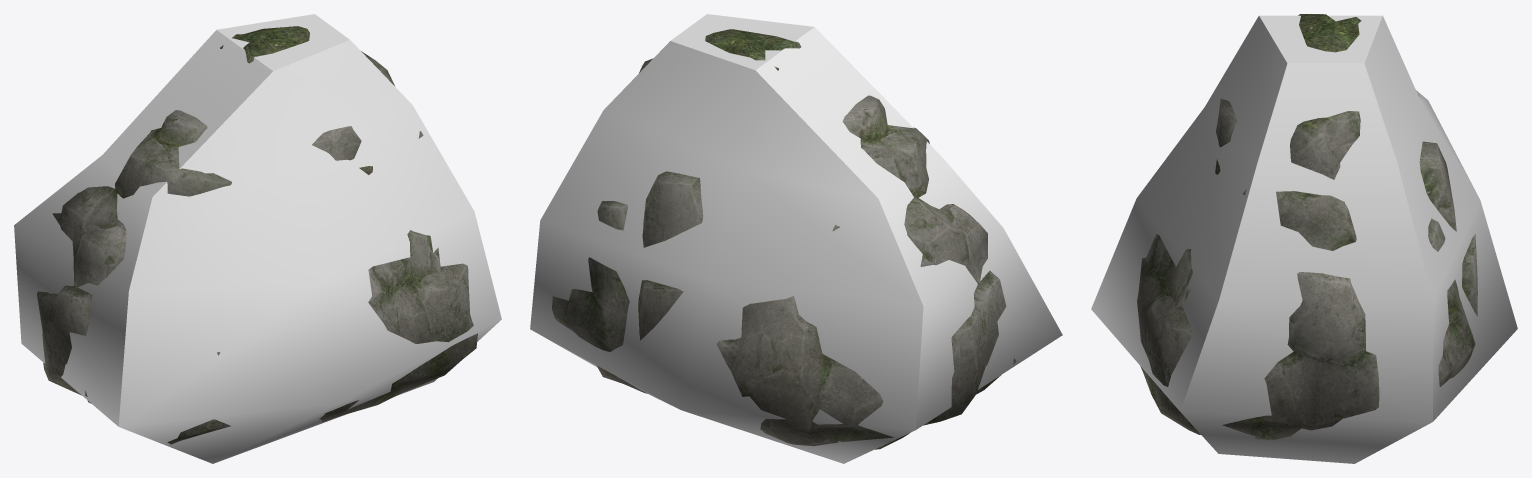
File: Scene_Rock_DaShanShi_3.FBX
The picture shows the model from 3 angles, left to right: view 1: azimuth 30°, elevation 25°; view 2: azimuth 150°, elevation 25°; view 3: azimuth 270°, elevation 25°; orthographic projection. The views are drawn at different scales.
Visible parts, largest first — view 1: Scene_Rock_DaShanShi_3_Xzm01, Scene_Rock_DaShanShi_3; view 2: Scene_Rock_DaShanShi_3_Xzm01, Scene_Rock_DaShanShi_3; view 3: Scene_Rock_DaShanShi_3_Xzm01, Scene_Rock_DaShanShi_3.
Part boxes in pixels (left/top/right/bottom): Scene_Rock_DaShanShi_3_Xzm01: left=14, top=14, right=501, bottom=463; Scene_Rock_DaShanShi_3: left=37, top=26, right=477, bottom=444; Scene_Rock_DaShanShi_3_Xzm01: left=530, top=14, right=1062, bottom=463; Scene_Rock_DaShanShi_3: left=552, top=29, right=1016, bottom=449; Scene_Rock_DaShanShi_3_Xzm01: left=1091, top=15, right=1517, bottom=463; Scene_Rock_DaShanShi_3: left=1137, top=14, right=1477, bottom=440.
Size of the model in its own units: 941 by 837 by 805.
